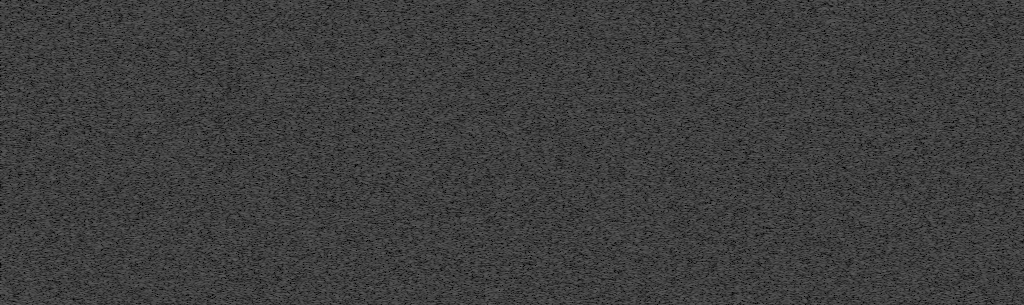wv_am: (700, 0, 718, 305)
wv_cw: (896, 0, 909, 305)
wv_lsb: (820, 235, 826, 305), (821, 143, 826, 226), (821, 77, 826, 115), (821, 38, 826, 71), (821, 6, 826, 37), (821, 116, 826, 142), (821, 227, 826, 231), (821, 72, 826, 76)
wv_usb: (812, 99, 817, 199), (812, 45, 817, 98), (812, 228, 817, 268), (812, 7, 817, 33), (812, 213, 817, 227), (812, 200, 817, 212), (812, 34, 817, 44), (813, 269, 816, 285), (813, 293, 816, 302), (813, 287, 816, 290)
